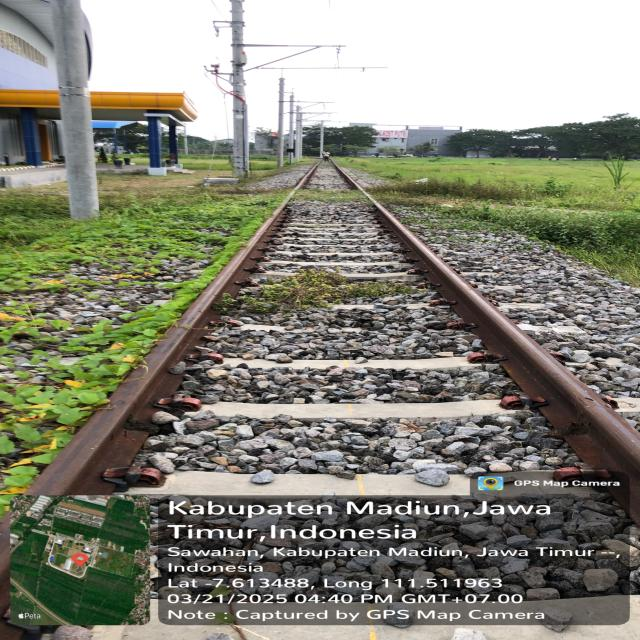rail-detection: (376, 203, 640, 525), (26, 205, 284, 495)
